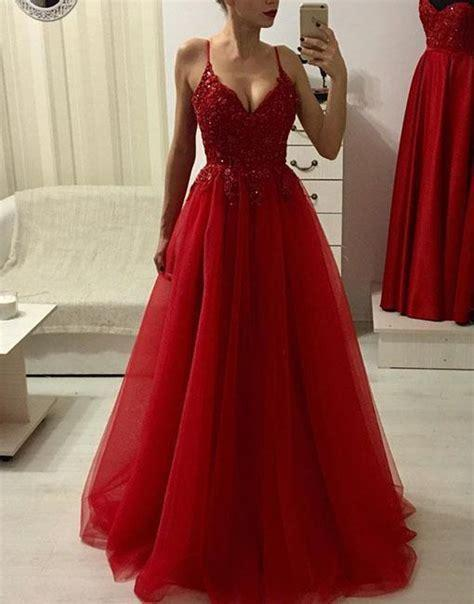dress: (80, 38, 416, 604)
